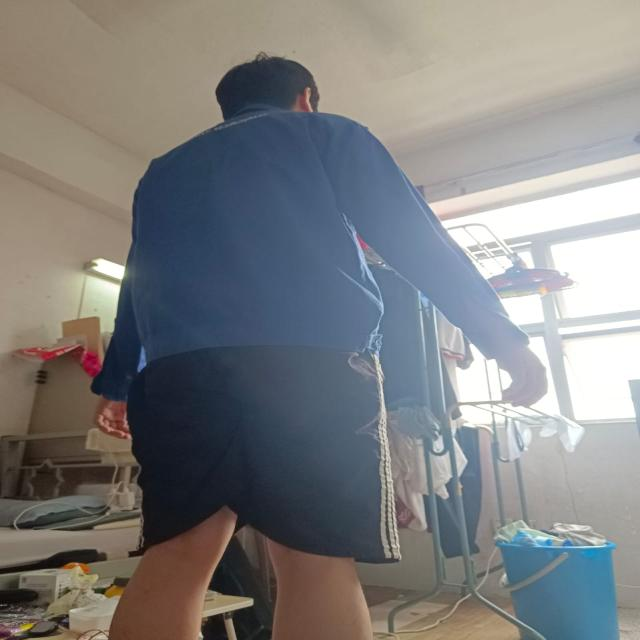person_with_labcoat: (93, 56, 546, 640)
